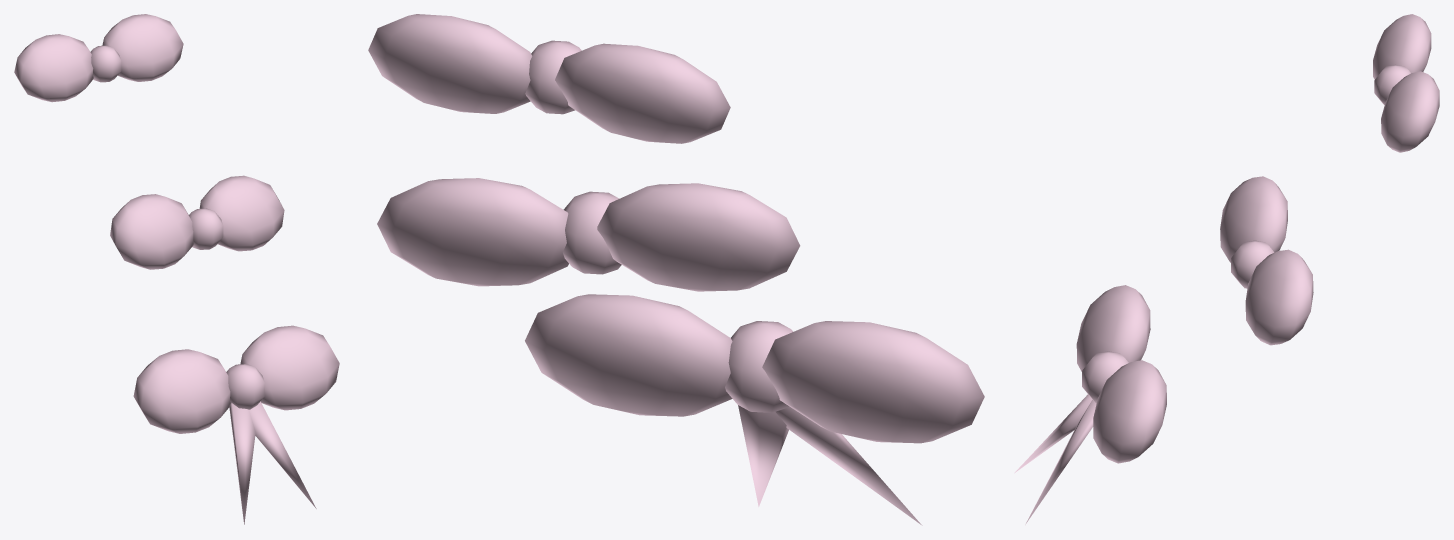
Rendered from mare_mane_bows.gltf.
3 renders of one model, left to right at view 1: azimuth 30°, elevation 25°; view 2: azimuth 150°, elevation 25°; view 3: azimuth 270°, elevation 25°, orthographic. The views are drawn at different scales.
Parts seen in each view (by area): view 1: mare_mane_bows; view 2: mare_mane_bows; view 3: mare_mane_bows.
Boxes of the visible parts, x1,y1,x2,y2 form: mare_mane_bows: (14, 14, 339, 524); mare_mane_bows: (368, 14, 984, 525); mare_mane_bows: (1014, 14, 1439, 524).
Size of the model in its own units: 0.2152 by 0.3497 by 0.3042.
